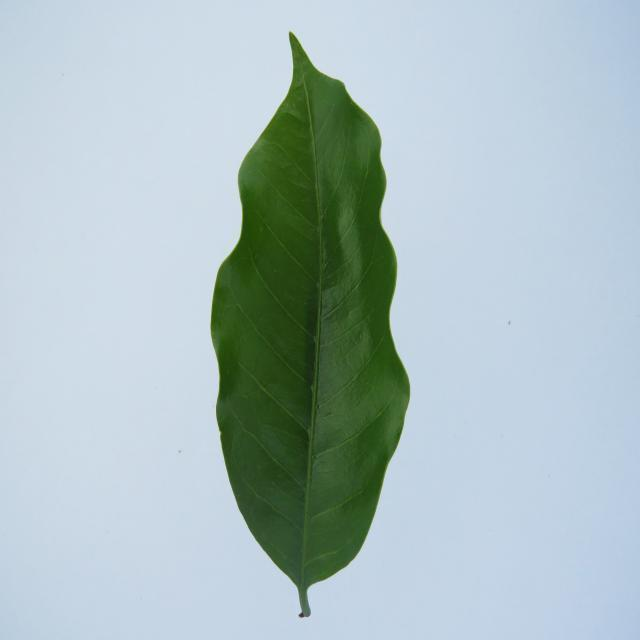DeficienciaNutricional-Calcio: (211, 33, 410, 617)
